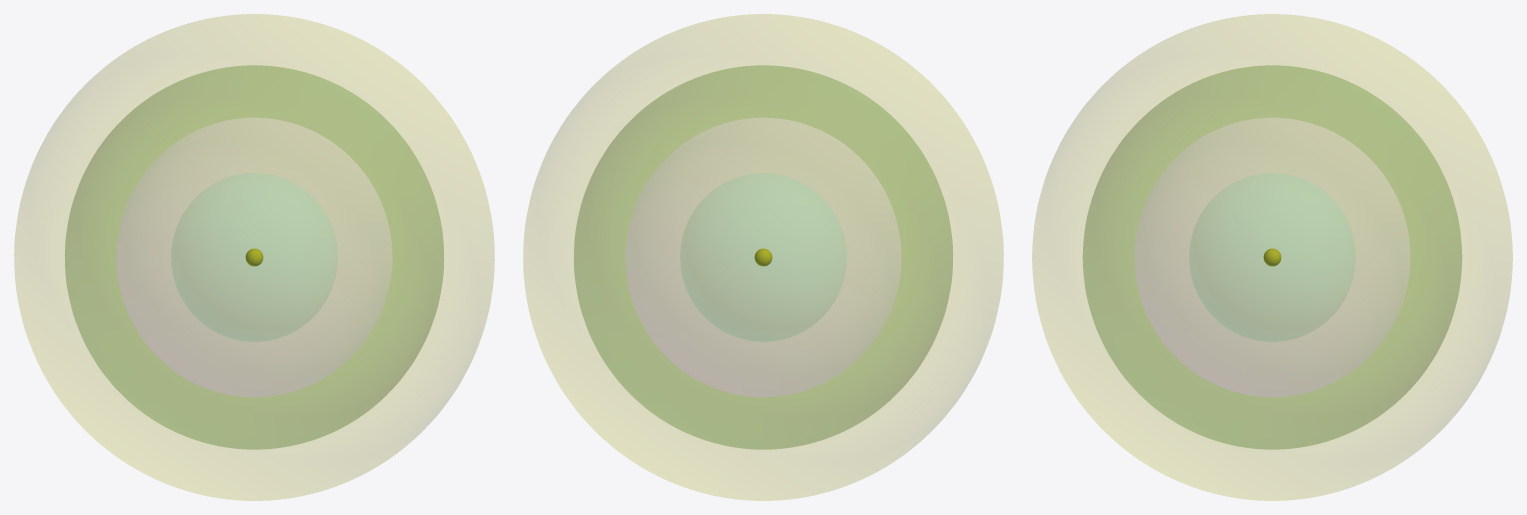
File: qiu3.fbx
The picture shows the model from 3 angles, left to right: view 1: azimuth 30°, elevation 25°; view 2: azimuth 150°, elevation 25°; view 3: azimuth 270°, elevation 25°; orthographic projection.
Parts seen in each view (by area): view 1: pSphere5, pSphere4, pSphere3; view 2: pSphere5, pSphere4, pSphere3; view 3: pSphere5, pSphere4, pSphere3.
Part boxes in pixels (x1,y1,x2,y2): pSphere5: [14, 14, 494, 500]; pSphere4: [65, 65, 443, 449]; pSphere3: [117, 118, 391, 396]; pSphere5: [523, 14, 1003, 500]; pSphere4: [574, 65, 952, 449]; pSphere3: [626, 118, 900, 396]; pSphere5: [1032, 14, 1512, 500]; pSphere4: [1083, 65, 1461, 449]; pSphere3: [1135, 118, 1409, 396].
Bounding box in the file's own units: 91.95 × 93.59 × 91.95.
